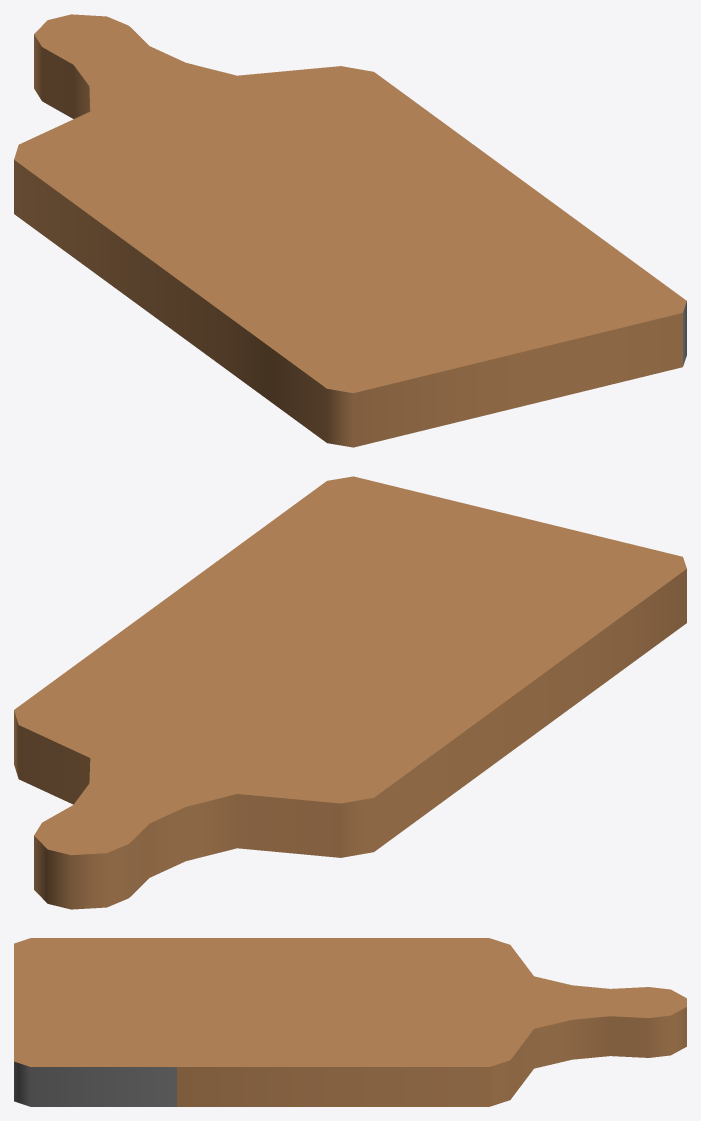
The model's file is CuttingBoard_01.fbx.
The picture shows the model from 3 angles, top to bottom: view 1: azimuth 30°, elevation 25°; view 2: azimuth 150°, elevation 25°; view 3: azimuth 270°, elevation 25°; orthographic projection. The views are drawn at different scales.
Parts seen in each view (by area): view 1: CuttingBoard_01; view 2: CuttingBoard_01; view 3: CuttingBoard_01.
Boxes of the visible parts, box(x1,y1,x2,y2) form: CuttingBoard_01: box(14, 14, 686, 447); CuttingBoard_01: box(14, 476, 686, 909); CuttingBoard_01: box(14, 938, 686, 1106).
Size of the model in its own units: 0.1794 by 0.0259 by 0.396.
